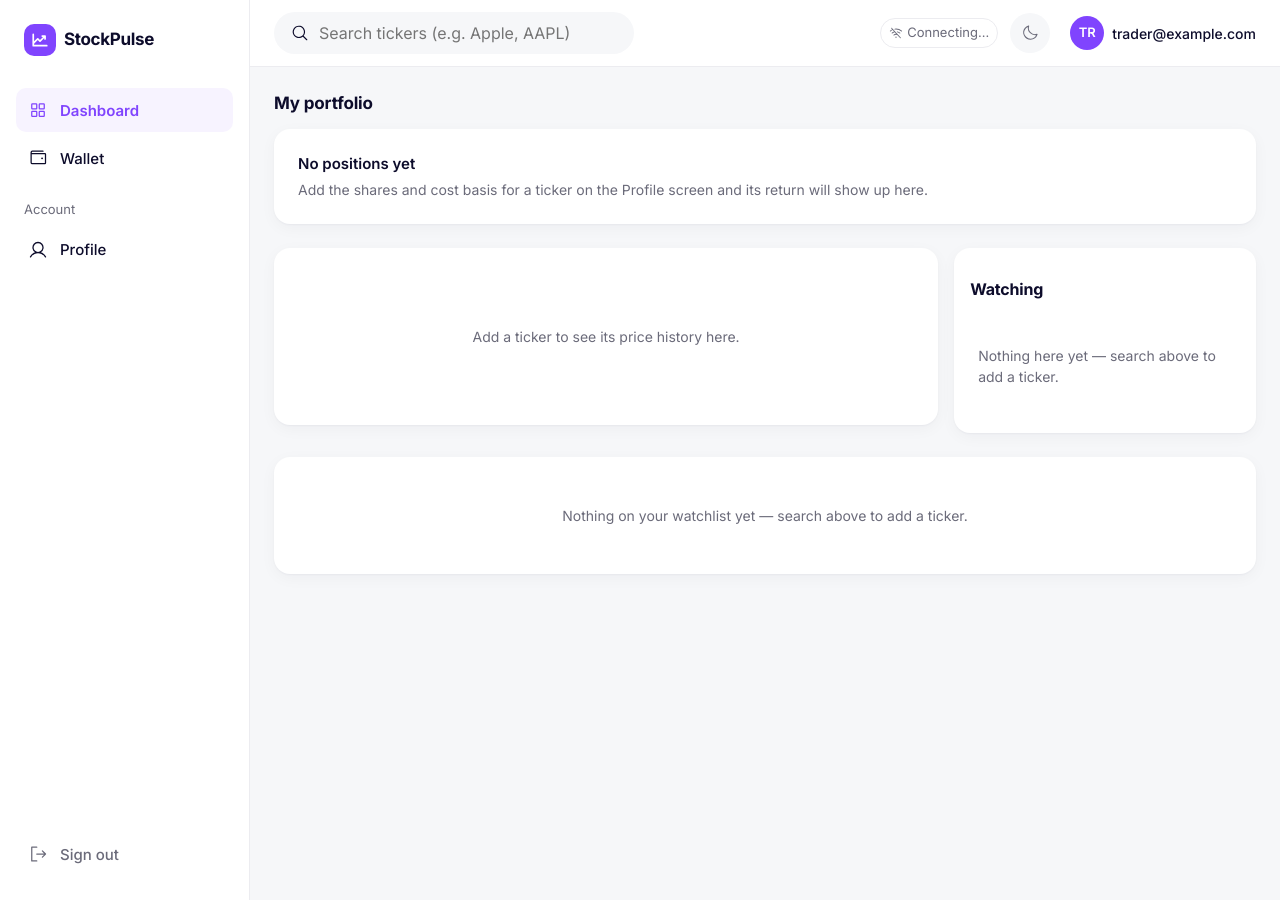
Test: App — search and add to watchlist › doesn't add anything to the table if addToWatchlist fails
The width and height of the screenshot is (1280, 900).
Expected: the text "Nothing on your watchlist yet" is shown, [562, 506, 968, 524]
Type "apple" into the field named "search for a stock ticker" at (467, 33), box [317, 21, 617, 45]
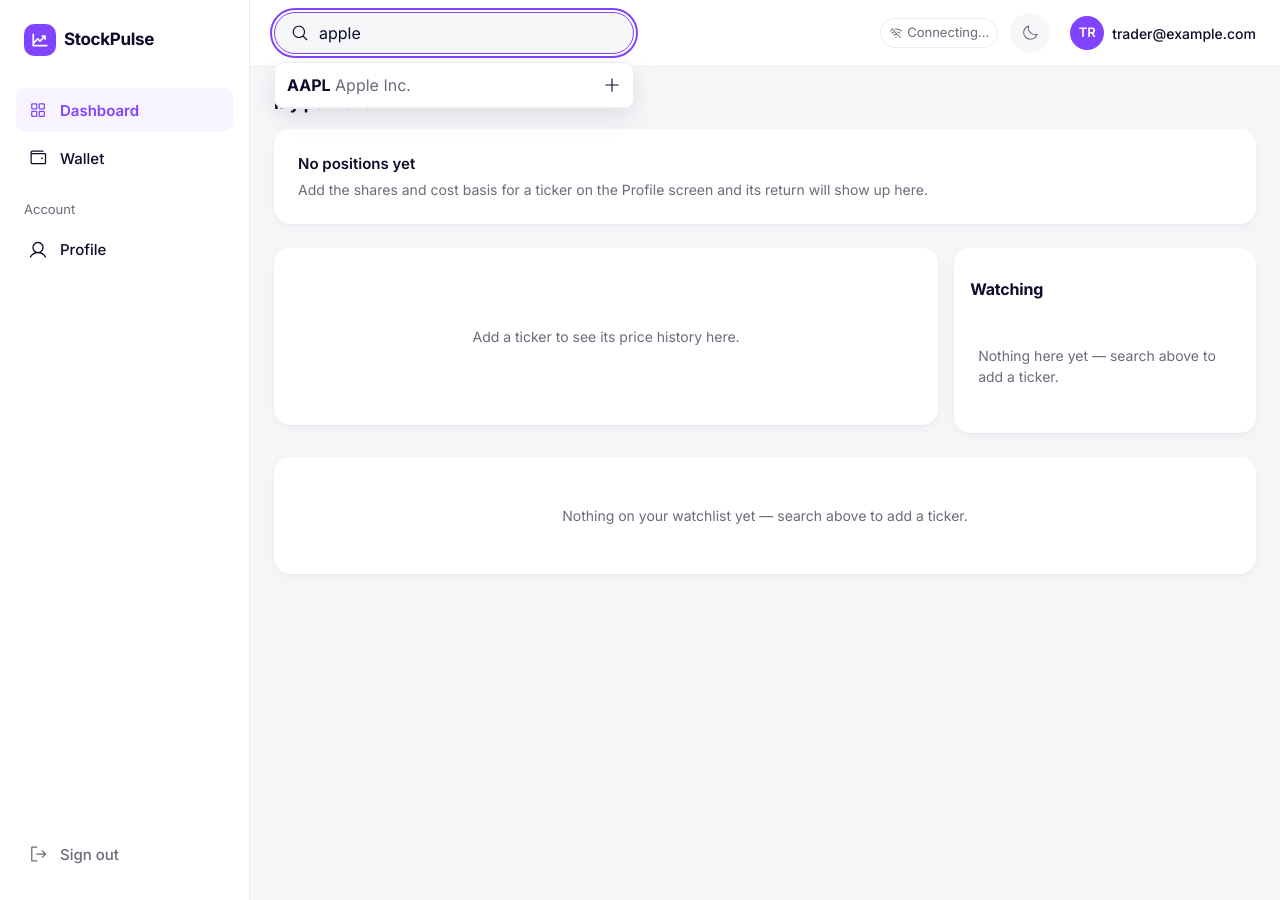
Now the button "AAPL Apple Inc." is shown
Click the button "AAPL Apple Inc." at (309, 85), box [275, 63, 633, 108]
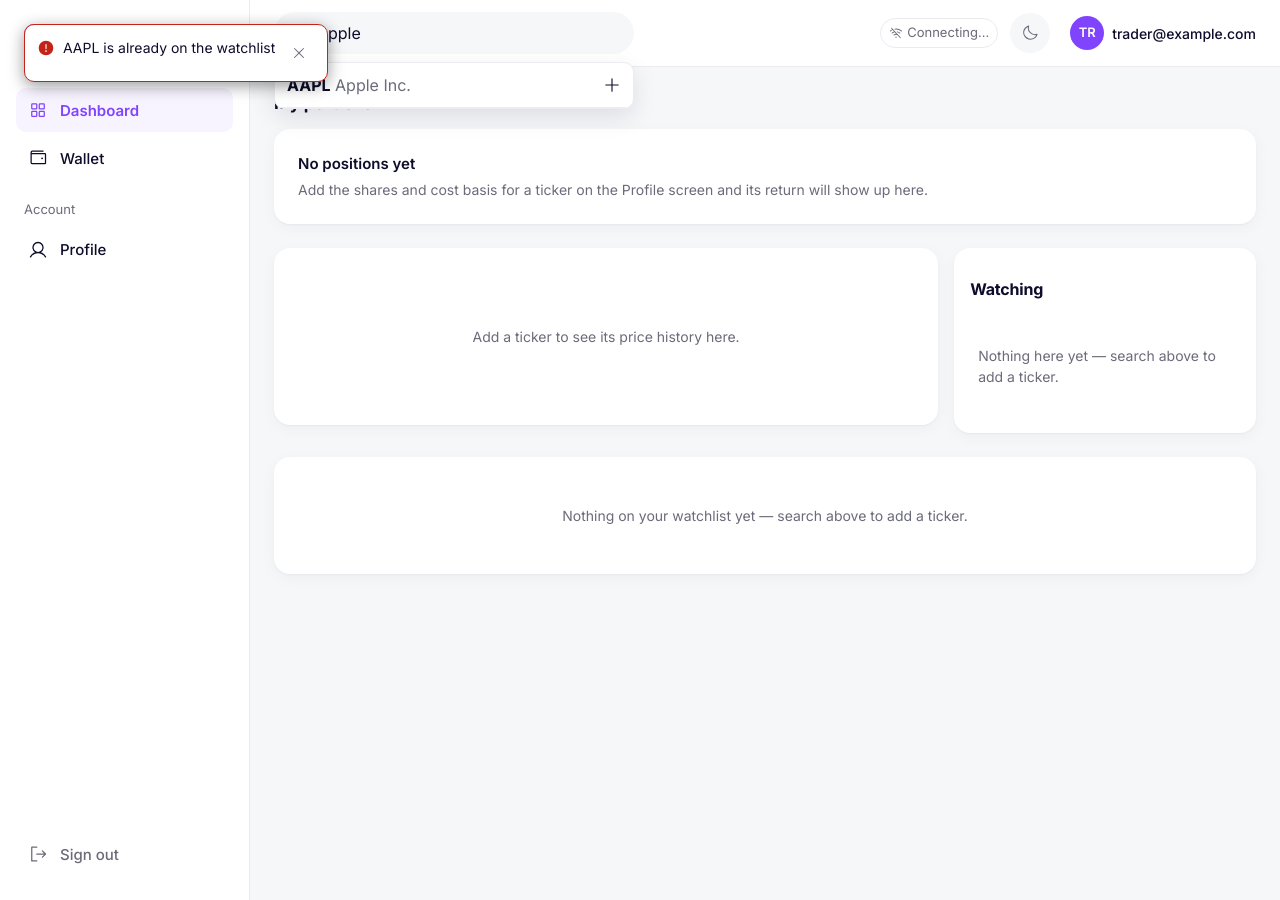
Expected: the text "Nothing on your watchlist yet" is shown, [562, 506, 968, 524]
Now the message "AAPL is already on the watchlist" is shown, box [24, 24, 328, 82]
